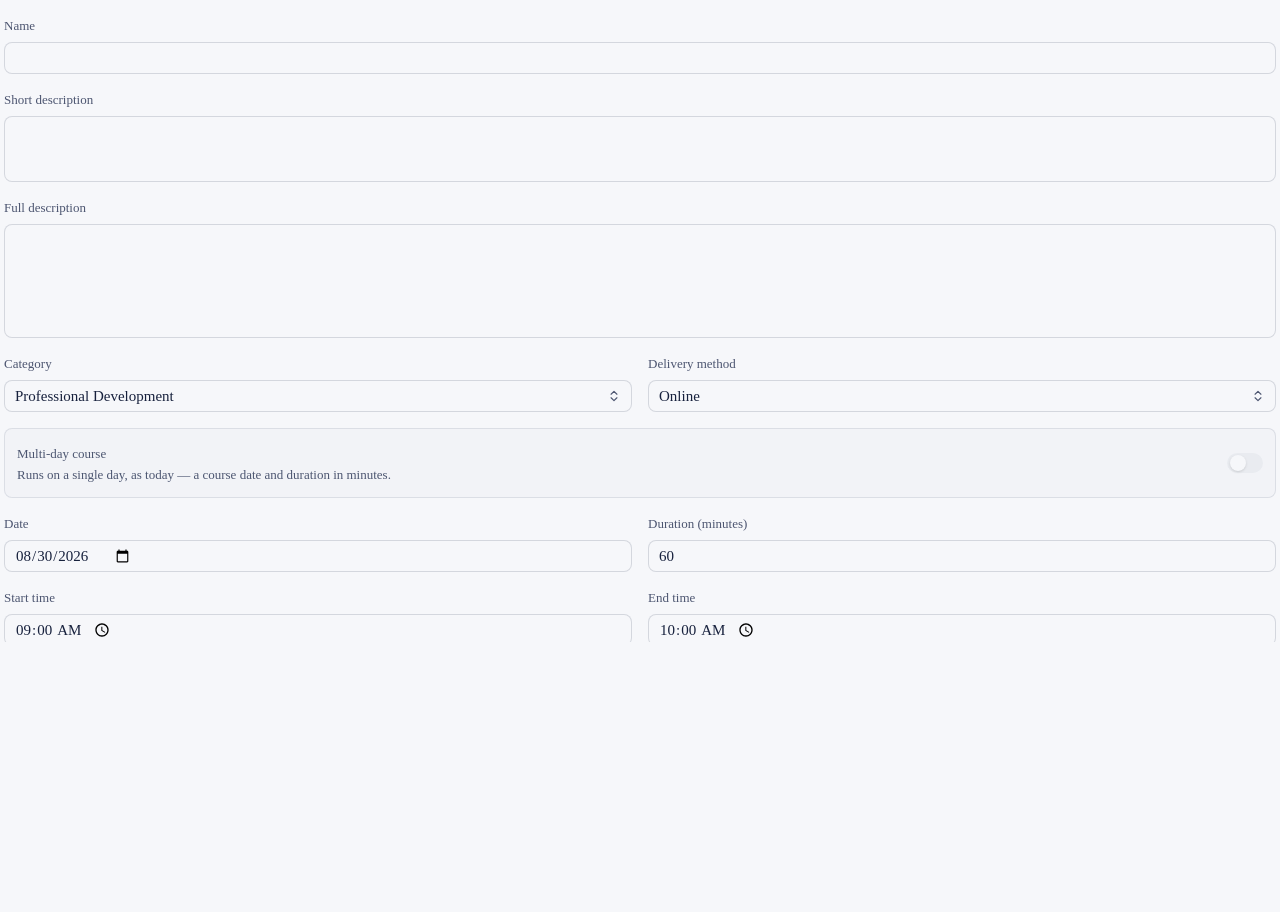
Scenario: CourseForm — Date field, typed digit by digit › rejects an empty required date on submit with a clear message, without crashing
Type "Test course" into the field labelled "Name" at (640, 58), box [4,42,1276,74]
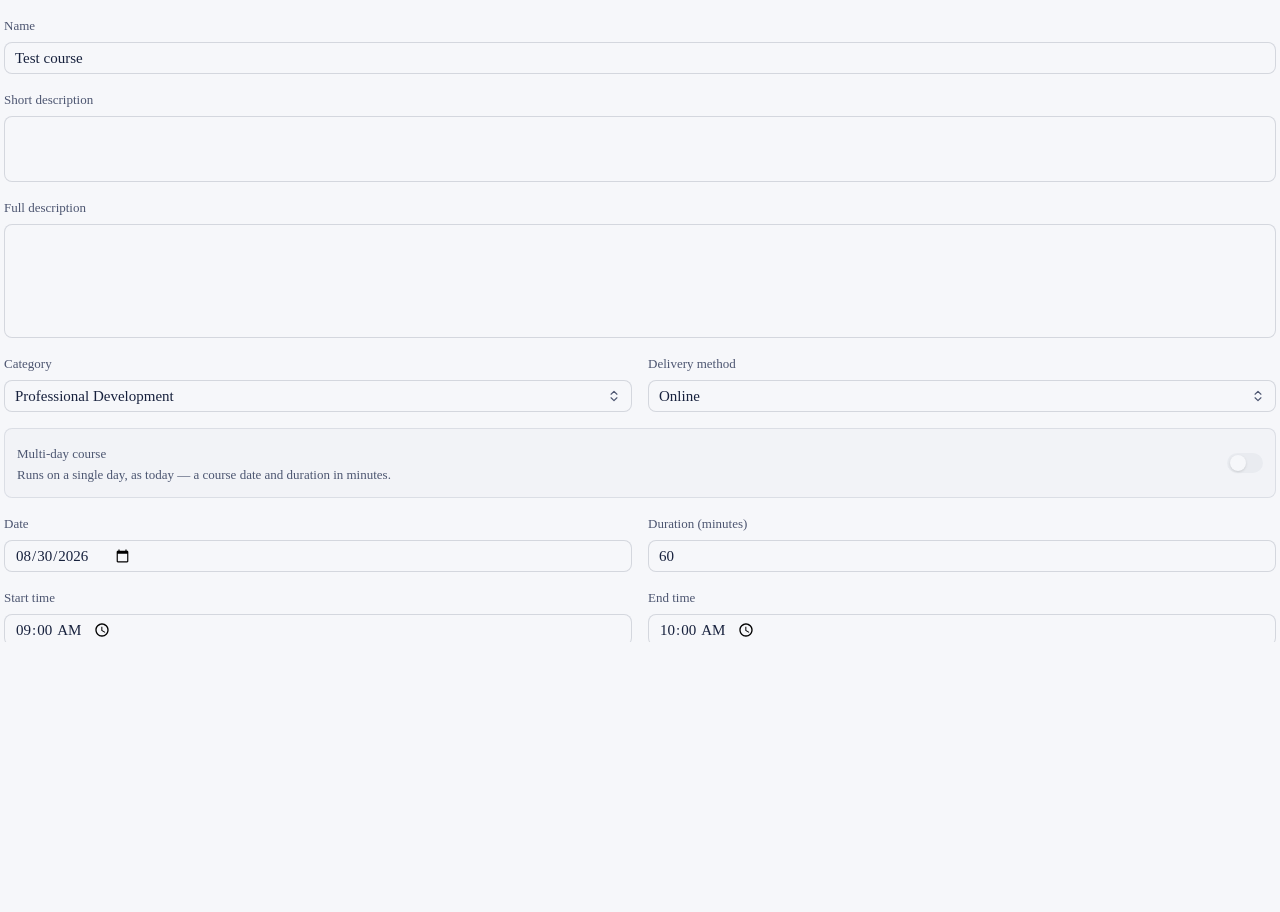
Type "x" into the text box labelled "Short description" at (640, 149), box [4,116,1276,182]
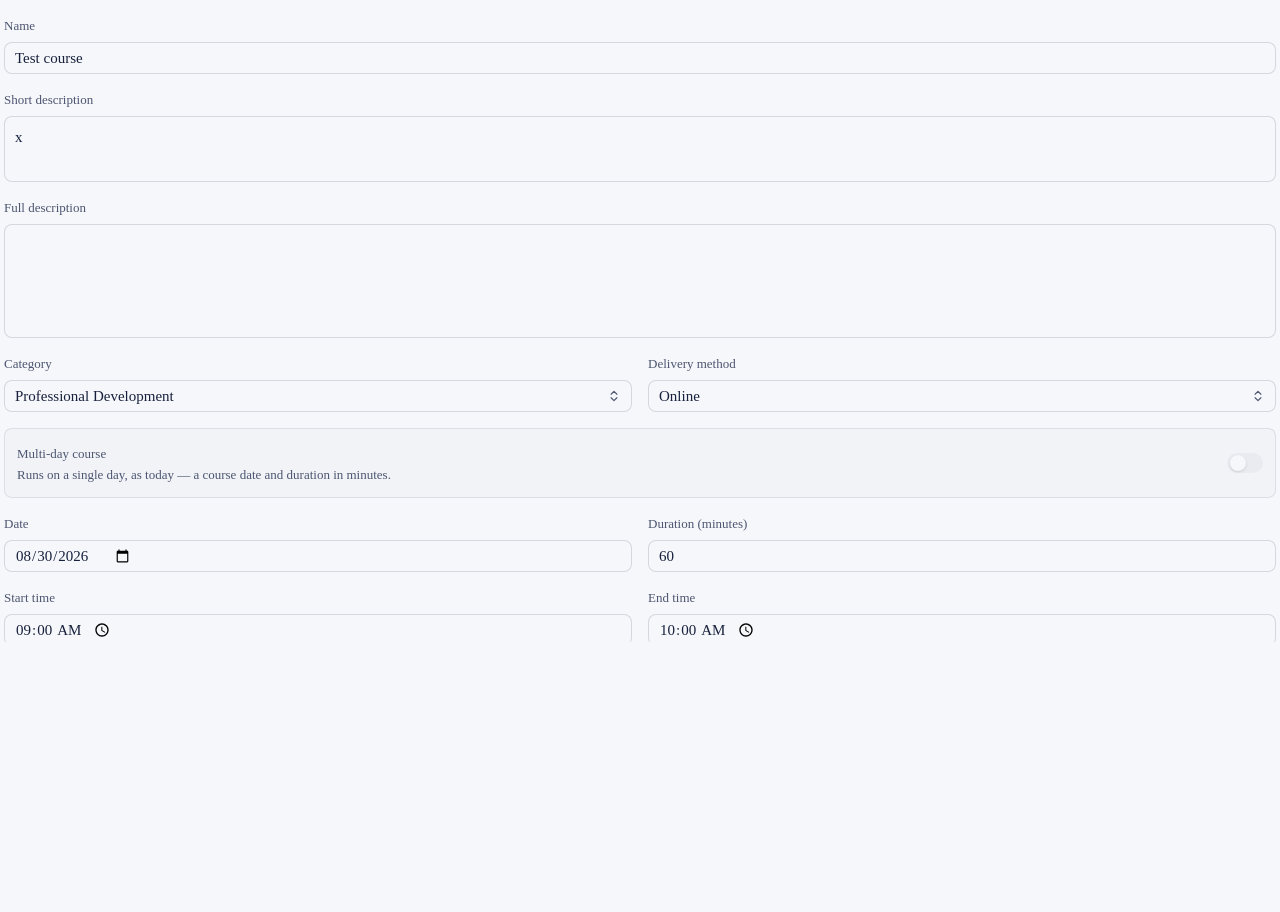
Type "x" into the text box labelled "Full description" at (640, 281), box [4,224,1276,338]
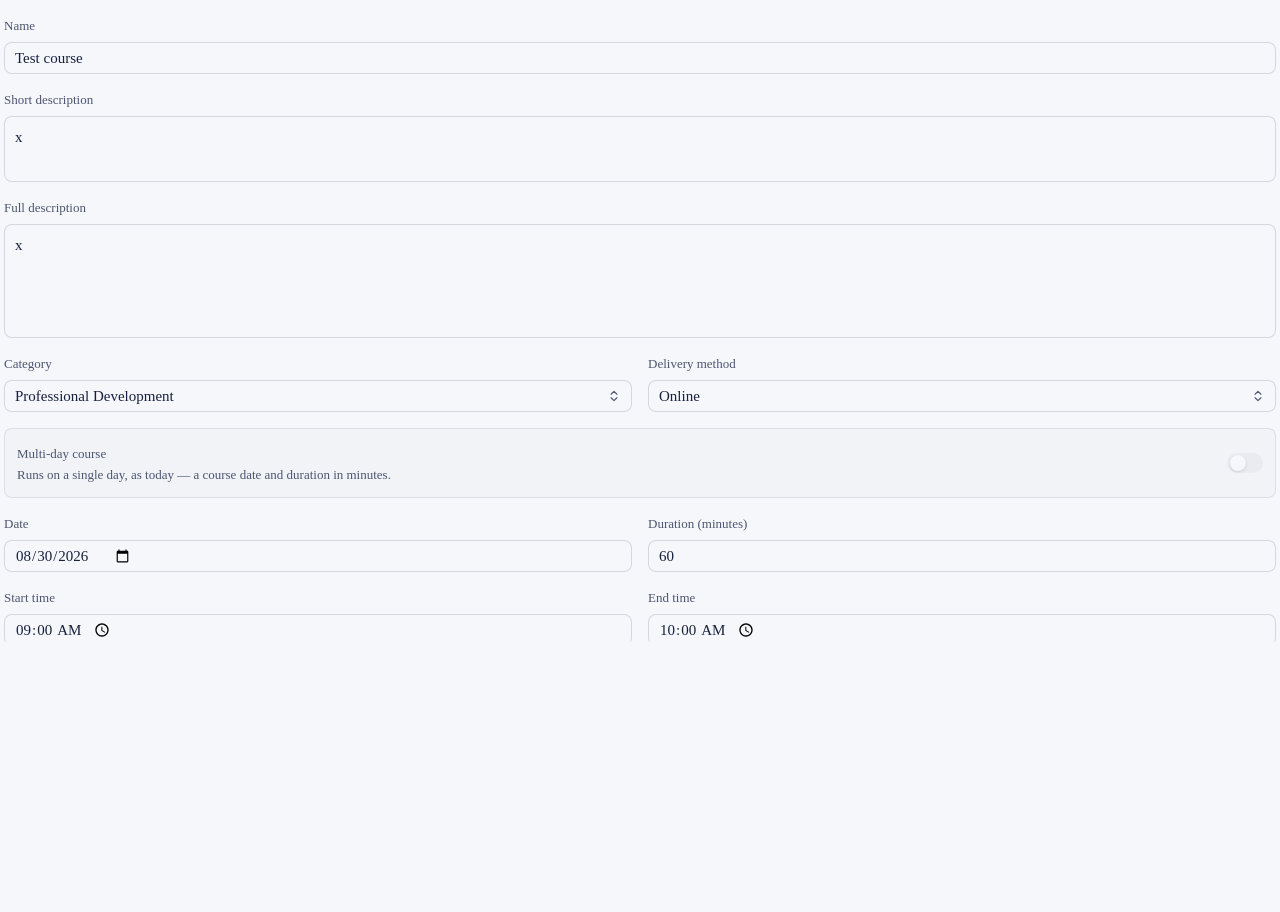
Clear the date field labelled "Date" at (318, 556), box [4,540,632,572]
(page scrolled)
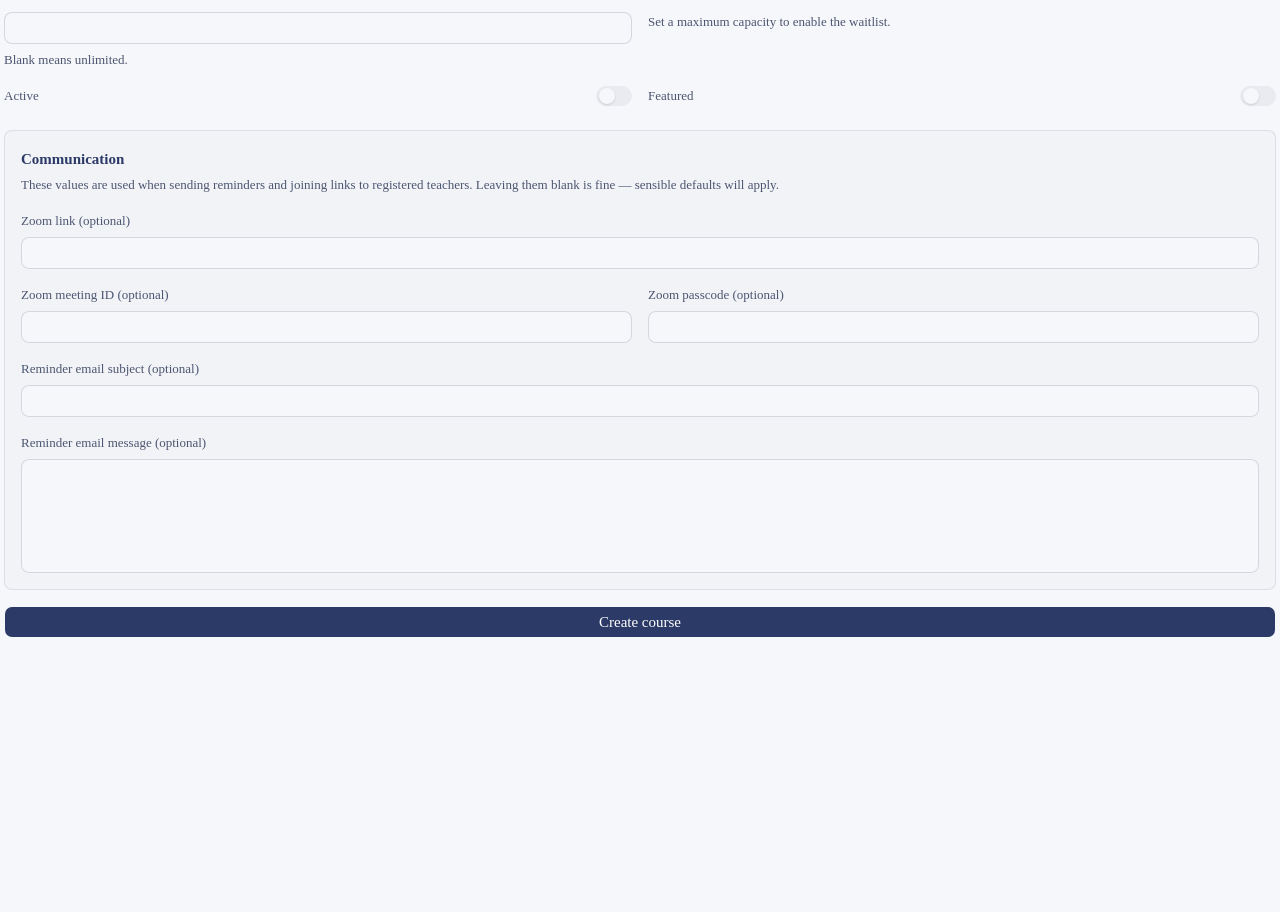
Click the button "Create course" at (640, 622), box [4,606,1276,638]
(page scrolled)
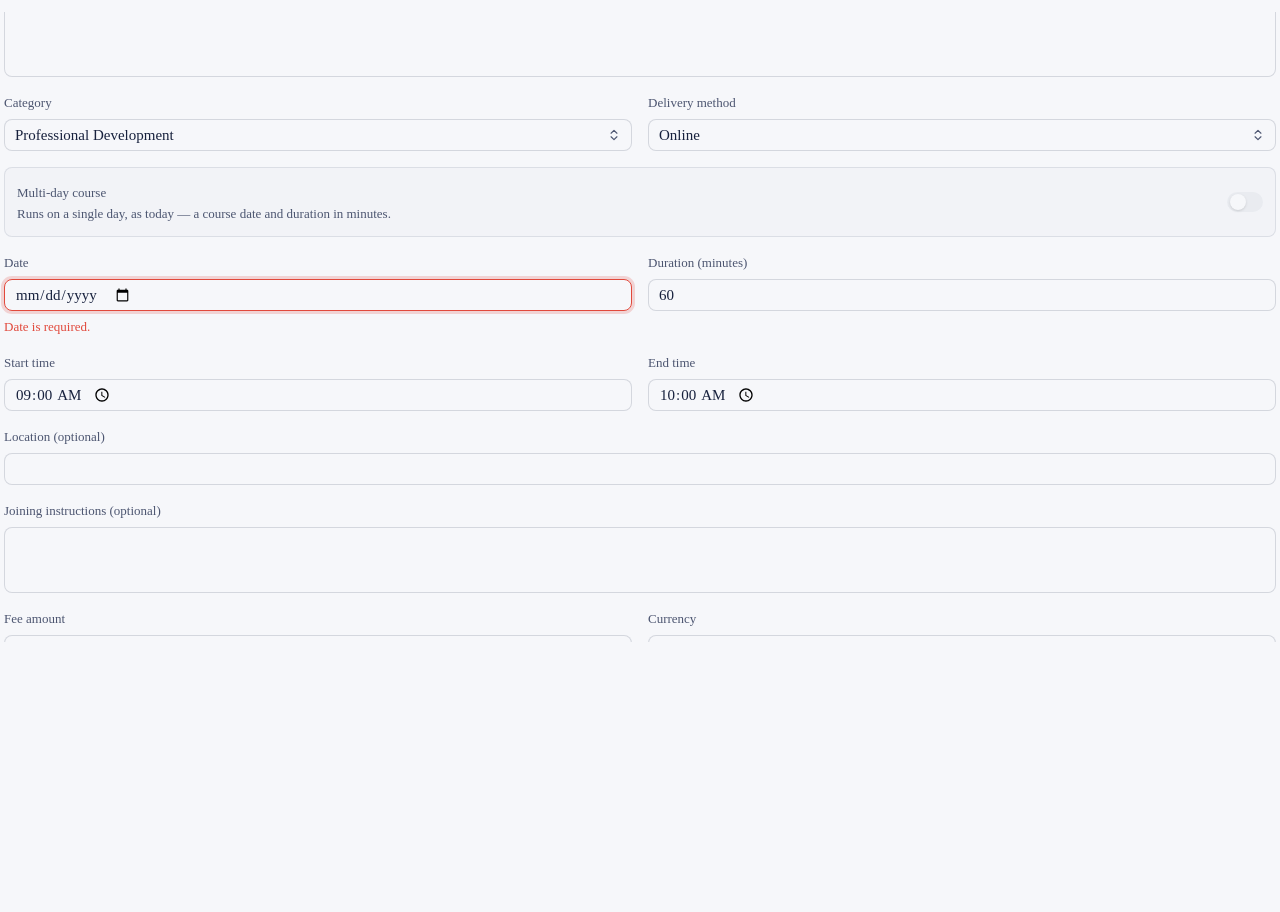
Expected: the text "Date is required." is shown, [4,319,90,334]
